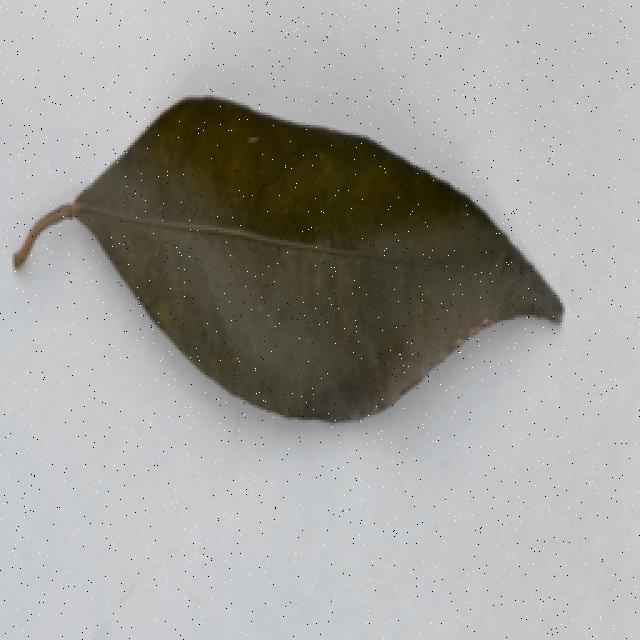healthy: (11, 89, 565, 442)
